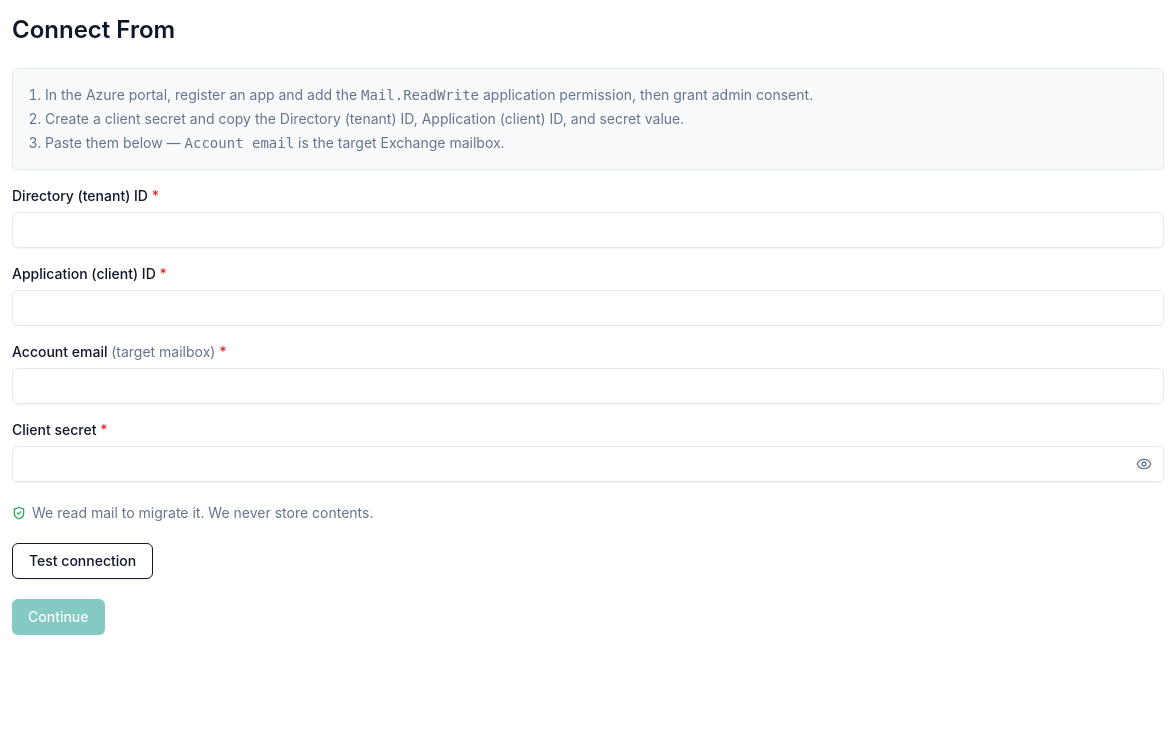
Scenario: StepConnect (OAuth providers) › Graph: collects tenant/client/account/secret and sends the GraphAppOAuth payload
In the field named "Tenant ID": (588, 230) left=12, top=212, right=1164, bottom=248, type "tid"
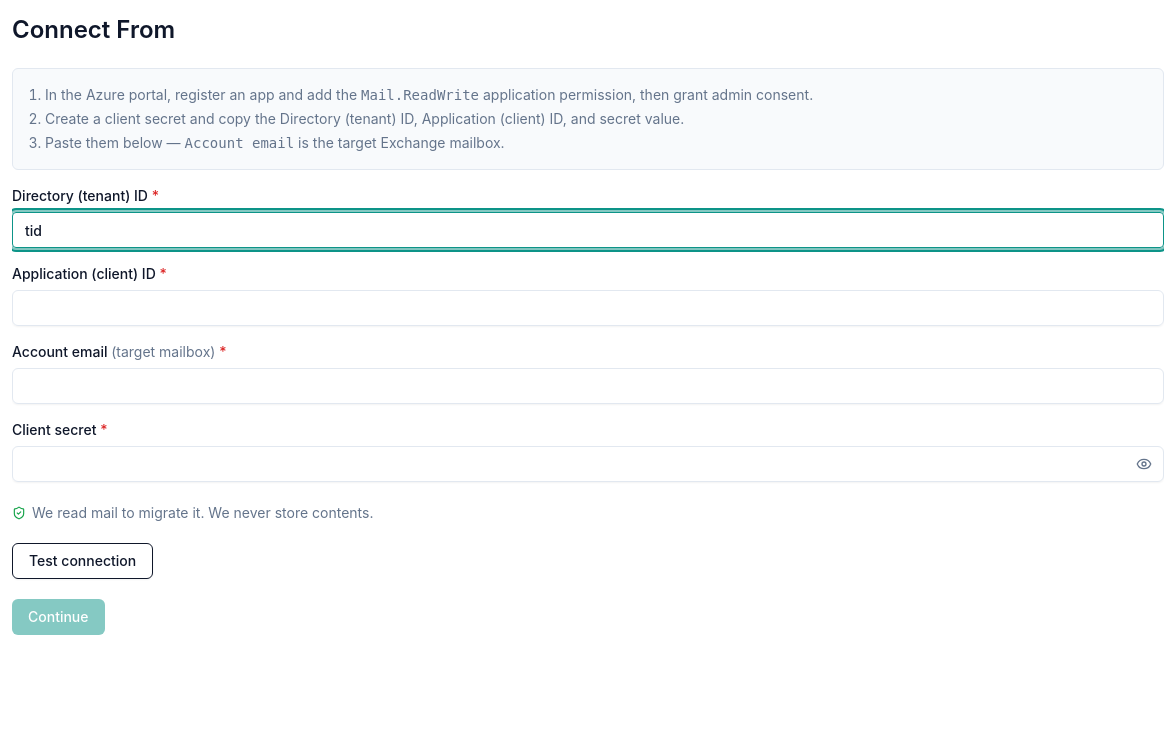
In the field named "Client ID": (588, 308) left=12, top=290, right=1164, bottom=326, type "cid"
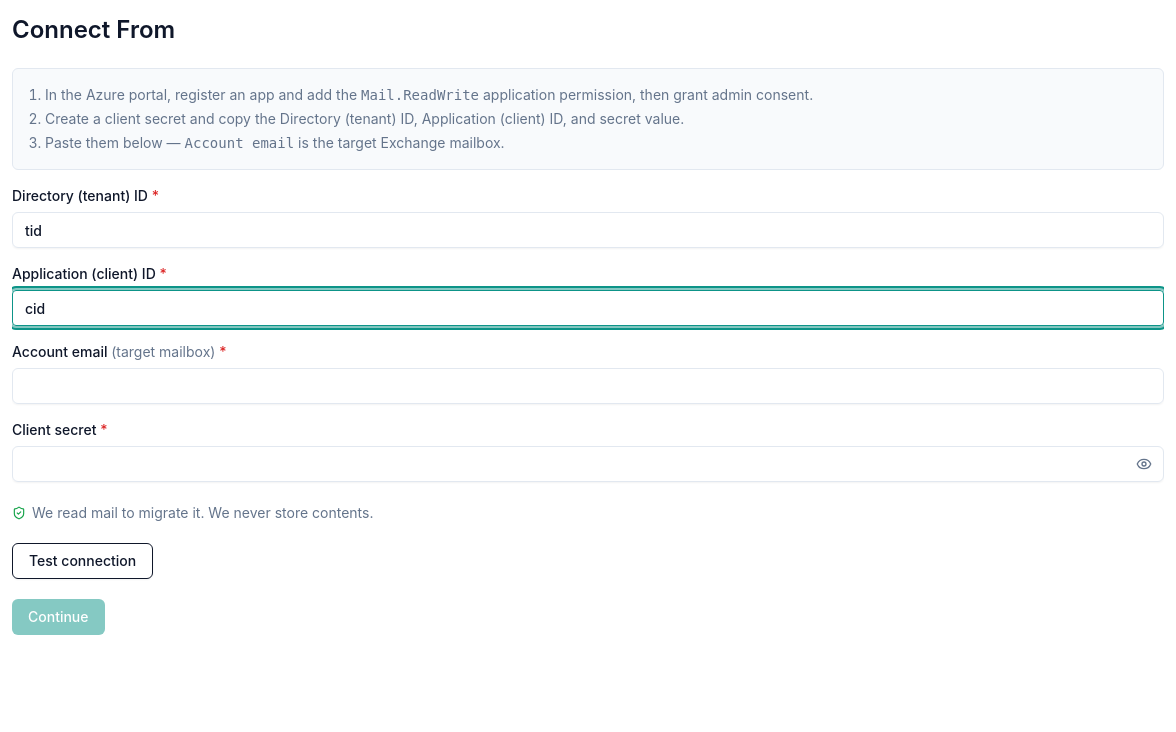
In the field labelled "Account email": (588, 386) left=12, top=368, right=1164, bottom=404, type "user@contoso.com"
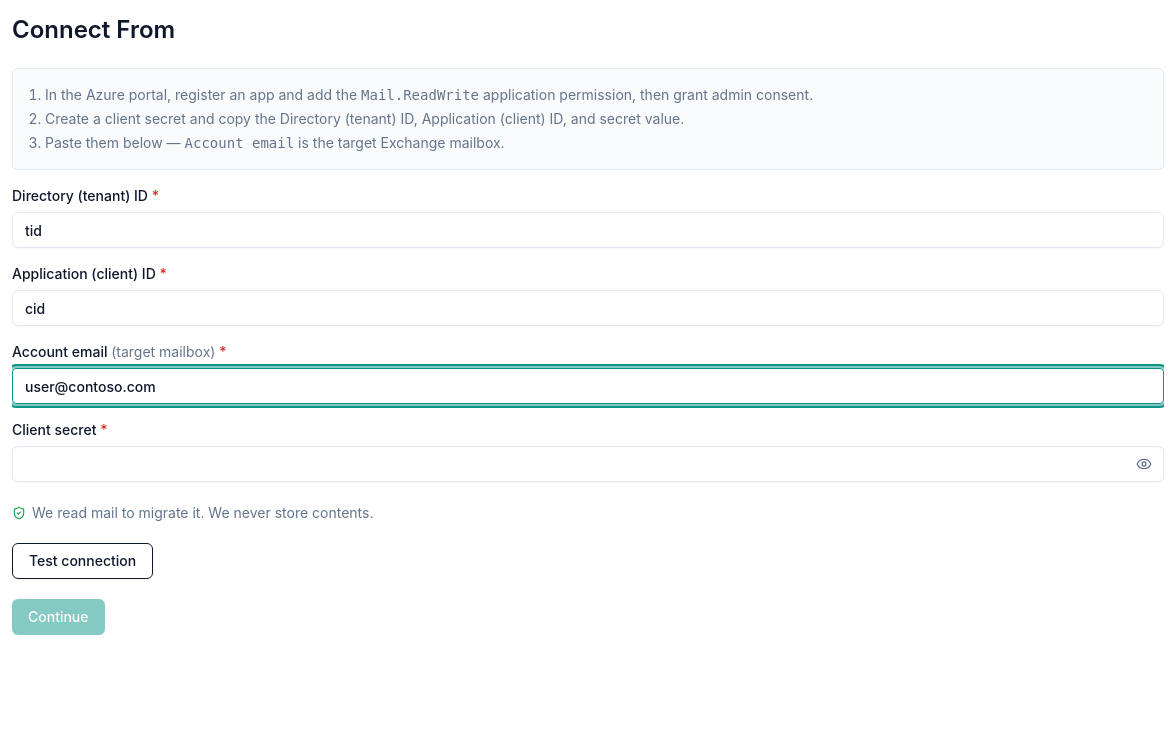
In the password field labelled "Client secret": (588, 464) left=12, top=446, right=1164, bottom=482, type "shh"
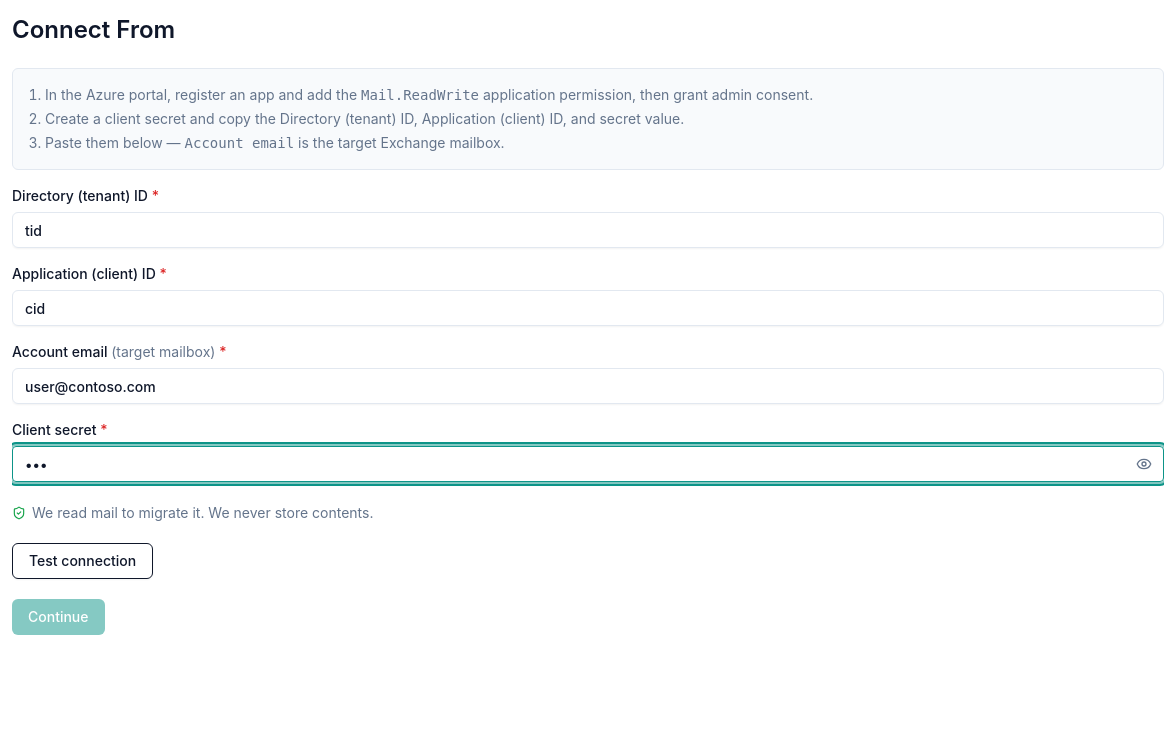
Click the button "Test connection": (83, 561) left=12, top=543, right=153, bottom=579
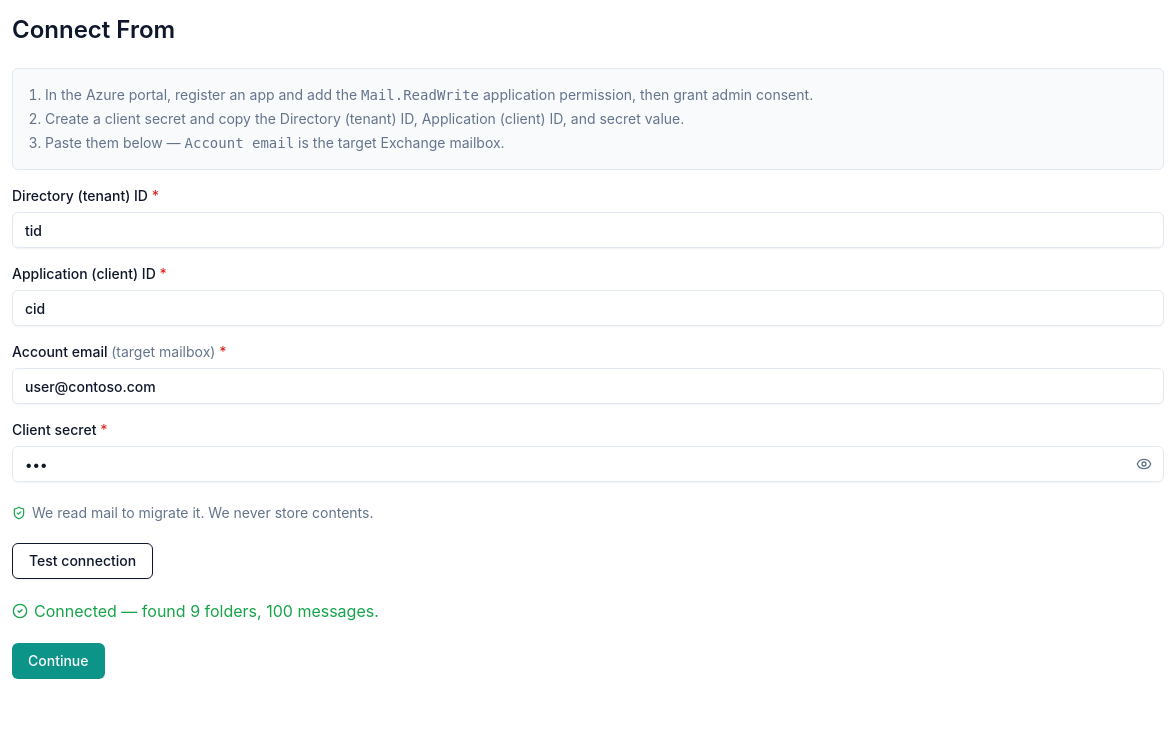
Result: the text "Connected — found 9 folders, 100 messages." is shown at left=12, top=599, right=379, bottom=623
Result: the button "Continue" is enabled at left=12, top=643, right=104, bottom=679
